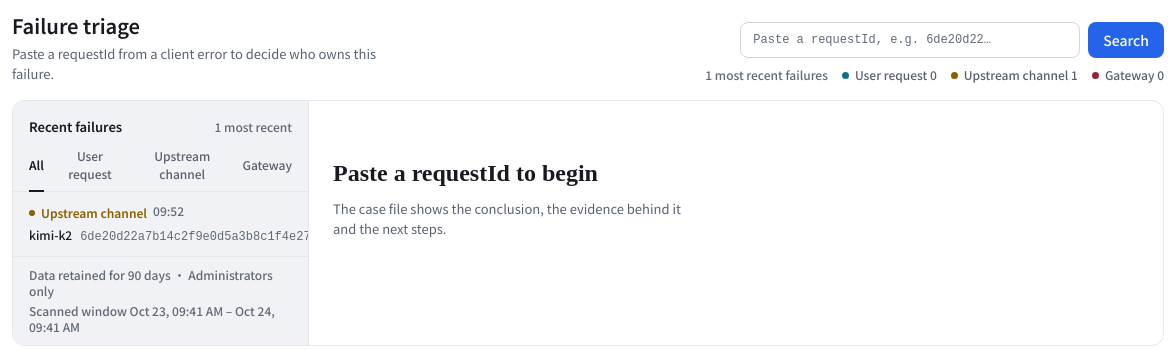
Test: failure triage page › scopes the header lead to the active owner filter and hides unseen owners
The width and height of the screenshot is (1176, 363).
Expected: the text "1 most recent failures" is shown, top-left (705, 66), bottom-right (828, 84)
Click the button "Upstream channel". click: (182, 169)
box: top-left (136, 147), bottom-right (228, 191)
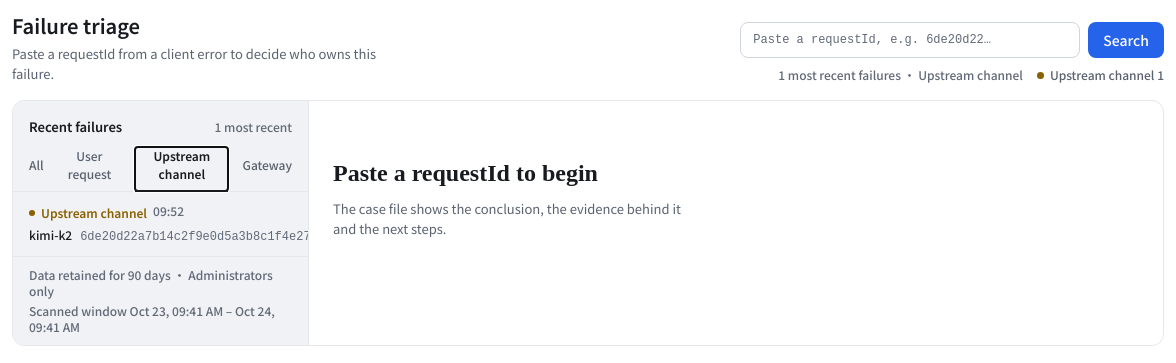
Result: the text "1 most recent failures · Upstream channel" is shown at top-left (778, 66), bottom-right (1023, 84)
Result: the text "User request 0" is gone
Result: the text "Gateway 0" is gone
